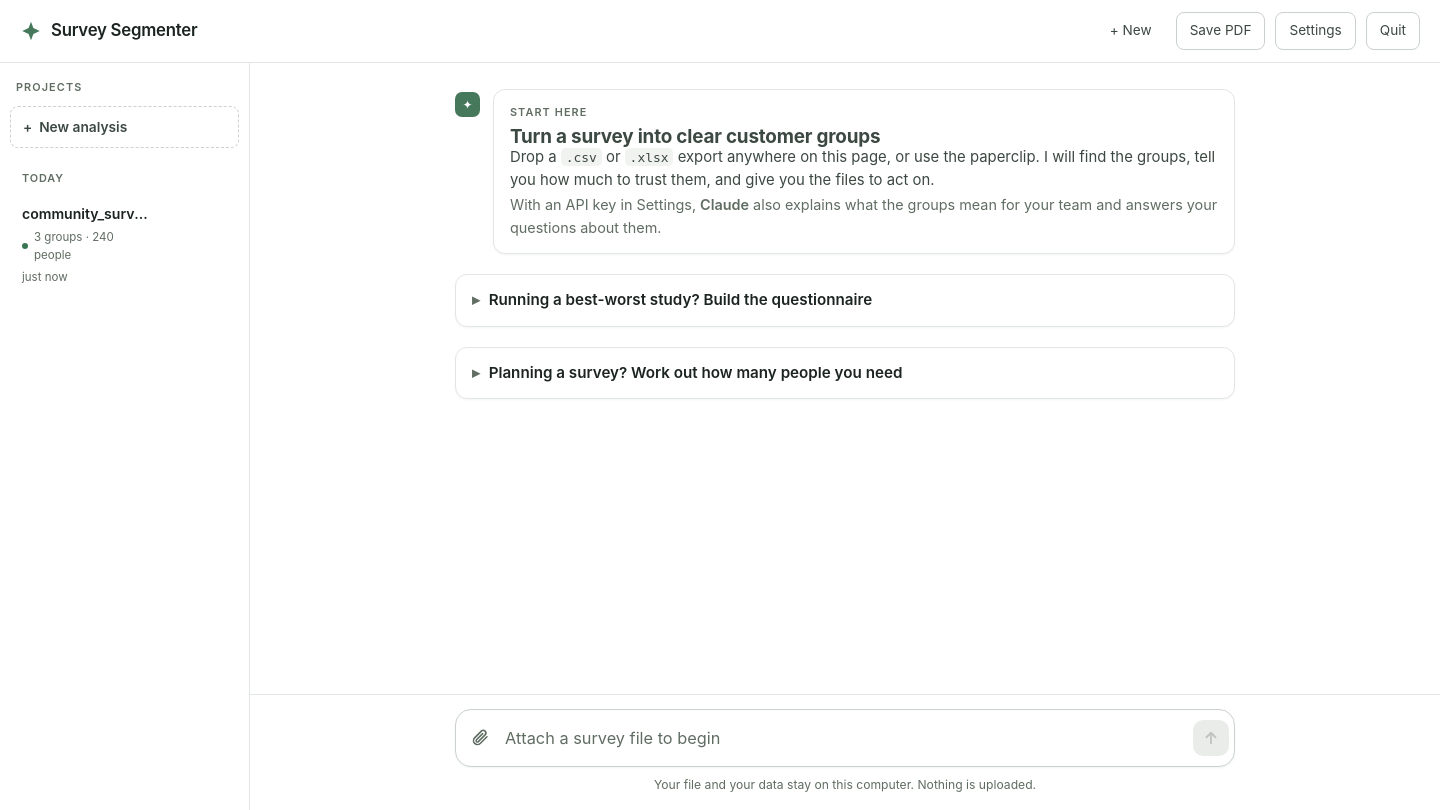
Test: projects › replays a reopened project in the order it happened
Click the button "community_survey.csv 3 groups · 240 people just now" at (87,244), box x1=10 y1=192 x2=163 y2=296
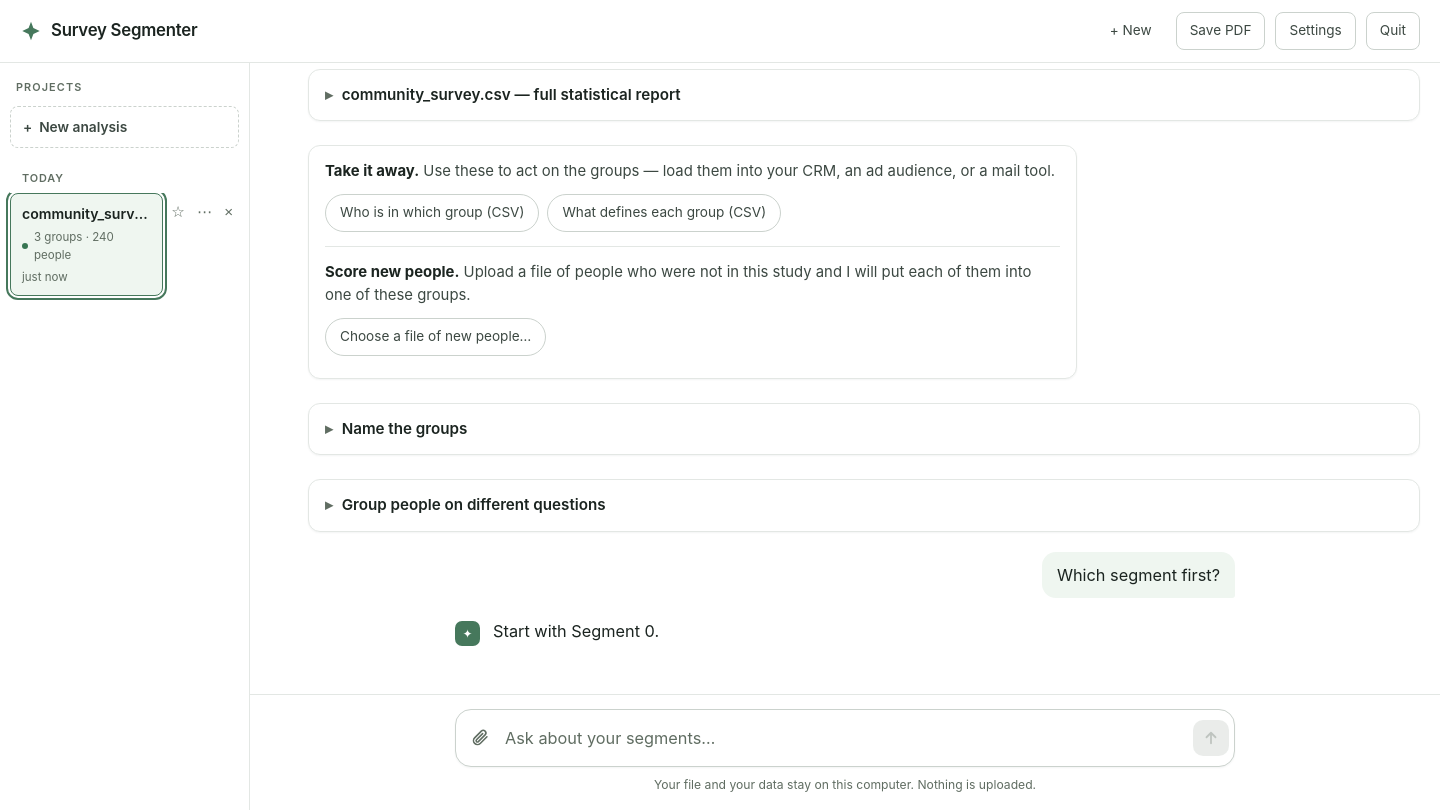
Now the text "Which segment first?" is shown, box x1=1042 y1=552 x2=1235 y2=598
Now the element with class "msg" shows "Start with Segment 0.", box x1=493 y1=621 x2=659 y2=641
